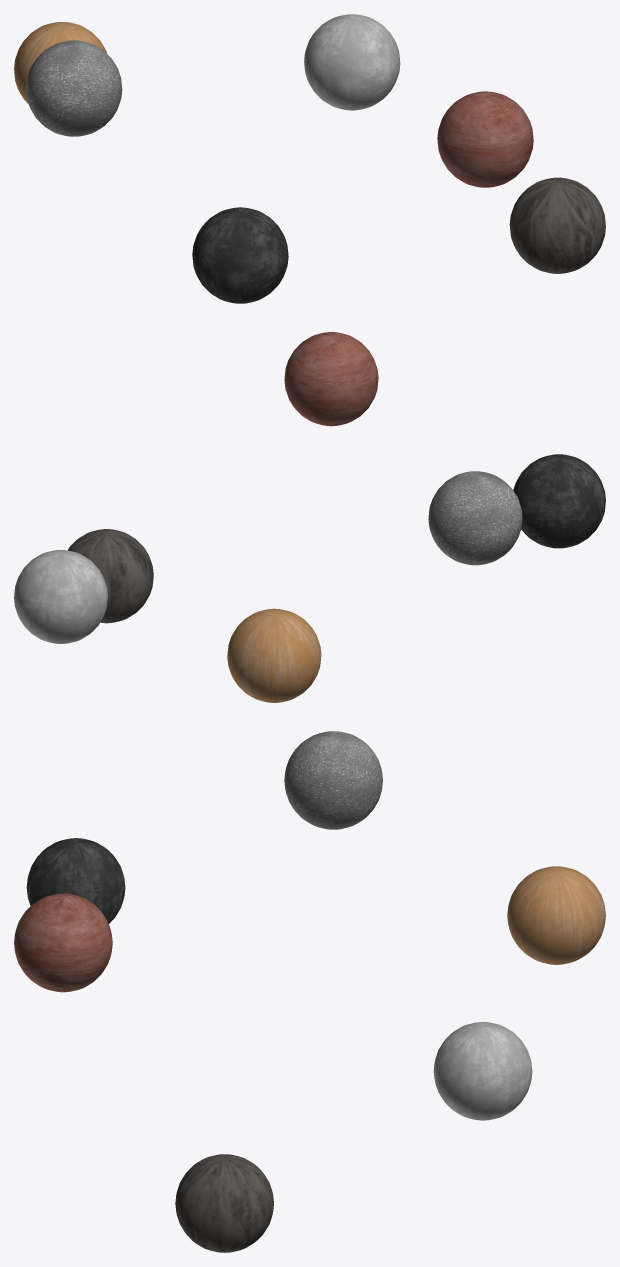
File: progressive.glb
The picture shows the model from 3 angles, top to bottom: view 1: azimuth 30°, elevation 25°; view 2: azimuth 150°, elevation 25°; view 3: azimuth 270°, elevation 25°; orthographic projection. The views are drawn at different scales.
Parts seen in each view (by area): view 1: Sphere.001, Sphere.002, Sphere, Sphere.005, Sphere.004, Sphere.003; view 2: Sphere.001, Sphere.003, Sphere.005, Sphere.004, Sphere.002, Sphere; view 3: Sphere.001, Sphere, Sphere.004, Sphere.003, Sphere.005, Sphere.002.
Part boxes in pixels (left/top/right/bottom): Sphere.001: left=437, top=91, right=533, bottom=187; Sphere.002: left=192, top=207, right=288, bottom=303; Sphere: left=509, top=177, right=605, bottom=273; Sphere.005: left=26, top=40, right=122, bottom=136; Sphere.004: left=304, top=14, right=400, bottom=110; Sphere.003: left=14, top=22, right=106, bottom=103; Sphere.001: left=284, top=332, right=378, bottom=426; Sphere.003: left=227, top=608, right=321, bottom=702; Sphere.005: left=428, top=471, right=522, bottom=565; Sphere.004: left=14, top=550, right=107, bottom=643; Sphere.002: left=513, top=454, right=605, bottom=548; Sphere: left=68, top=529, right=153, bottom=623; Sphere.001: left=14, top=893, right=112, bottom=992; Sphere: left=175, top=1154, right=273, bottom=1252; Sphere.004: left=433, top=1022, right=532, bottom=1120; Sphere.003: left=507, top=866, right=605, bottom=964; Sphere.005: left=284, top=731, right=382, bottom=829; Sphere.002: left=26, top=838, right=125, bottom=923.
Bounding box in the file's own units: 12.3 × 6.65 × 11.99.
6 materials, 6 textured.
